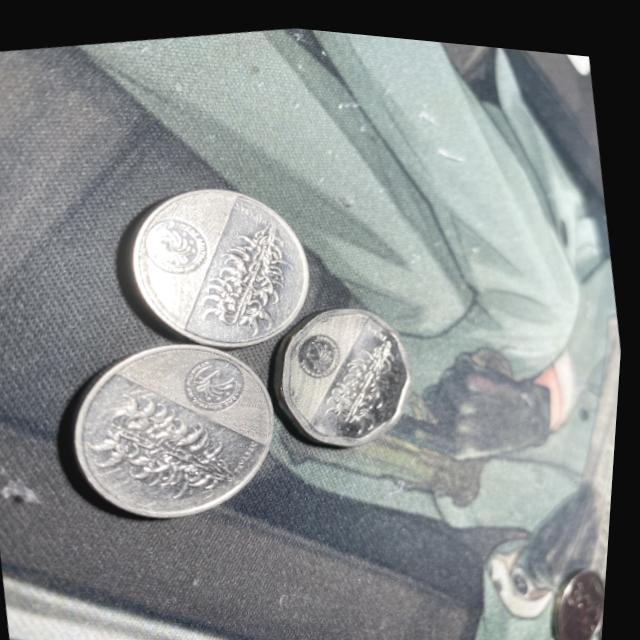5_New_Back: (96, 392, 256, 506), (188, 200, 315, 334), (319, 328, 421, 432)
